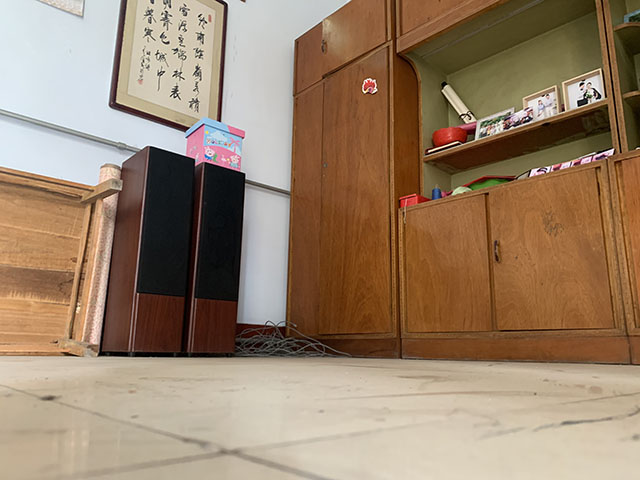cabinet: (295, 150, 640, 367)
table: (1, 164, 123, 359)
wire: (235, 319, 351, 360)
